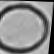no answer: (0, 2, 52, 54)
